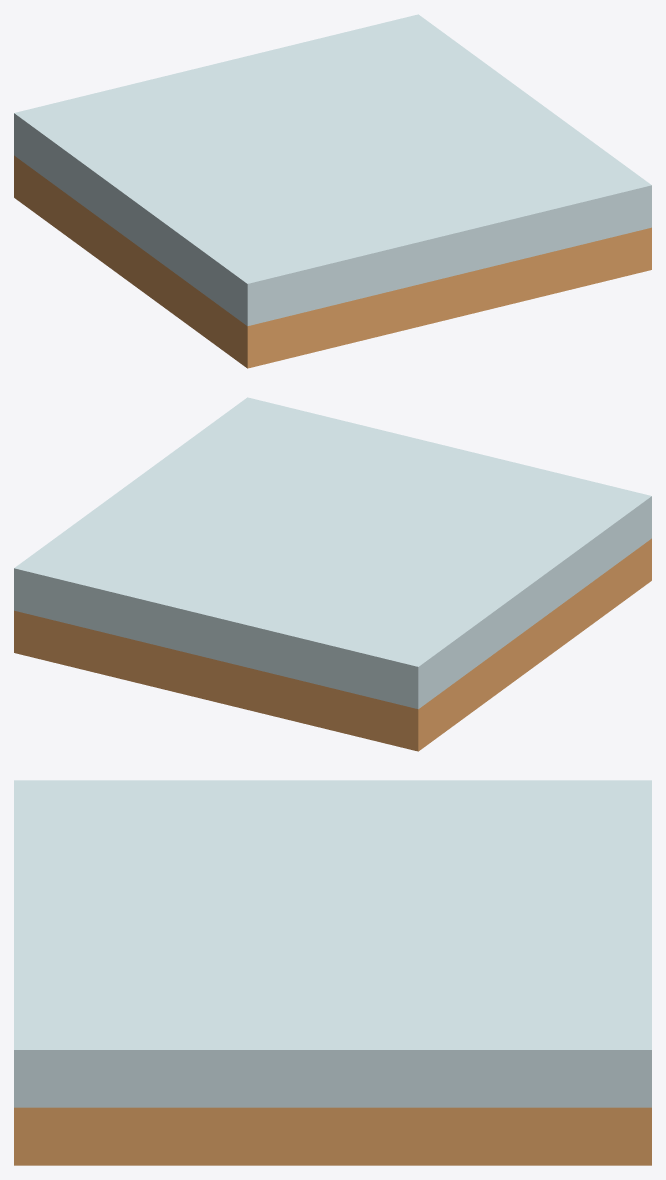
Rendered from snow_tile.dae.
3 renders of one model, top to bottom at view 1: azimuth 30°, elevation 25°; view 2: azimuth 150°, elevation 25°; view 3: azimuth 270°, elevation 25°, orthographic. The views are drawn at different scales.
Parts seen in each view (by area): view 1: snow_tile; view 2: snow_tile; view 3: snow_tile.
Part boxes in pixels (x1,y1,x2,y2): snow_tile: (14, 14, 651, 368); snow_tile: (14, 397, 651, 751); snow_tile: (14, 780, 651, 1165).
Bounding box in the file's own units: 1 × 0.2 × 1.
